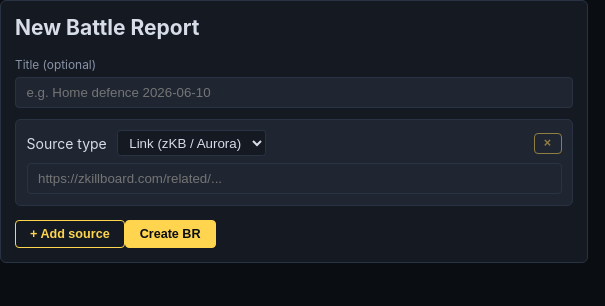
Test: SourceComposer › rejects a link with a bad host client-side
Type "https://example.com/related/123" into the field with placeholder "https://zkillboard.com/related/...". click: (294, 179)
box: top-left (26, 163), bottom-right (562, 194)
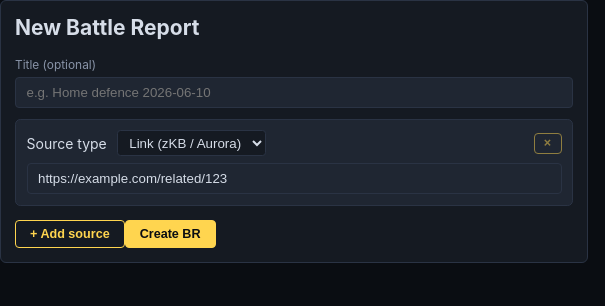
Click the button "Create BR". click: (170, 234)
box: top-left (125, 220), bottom-right (216, 248)
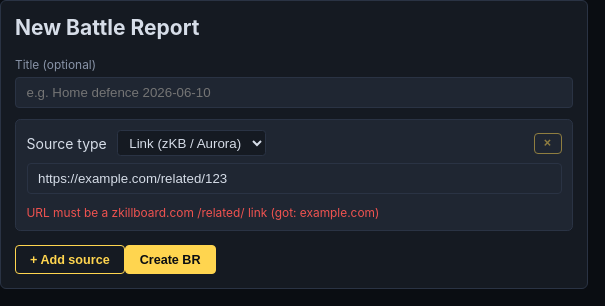
Check: the message reads "URL must be a zkillboard.com /related/ link (got: example.com)", box top-left (26, 205), bottom-right (379, 220)
